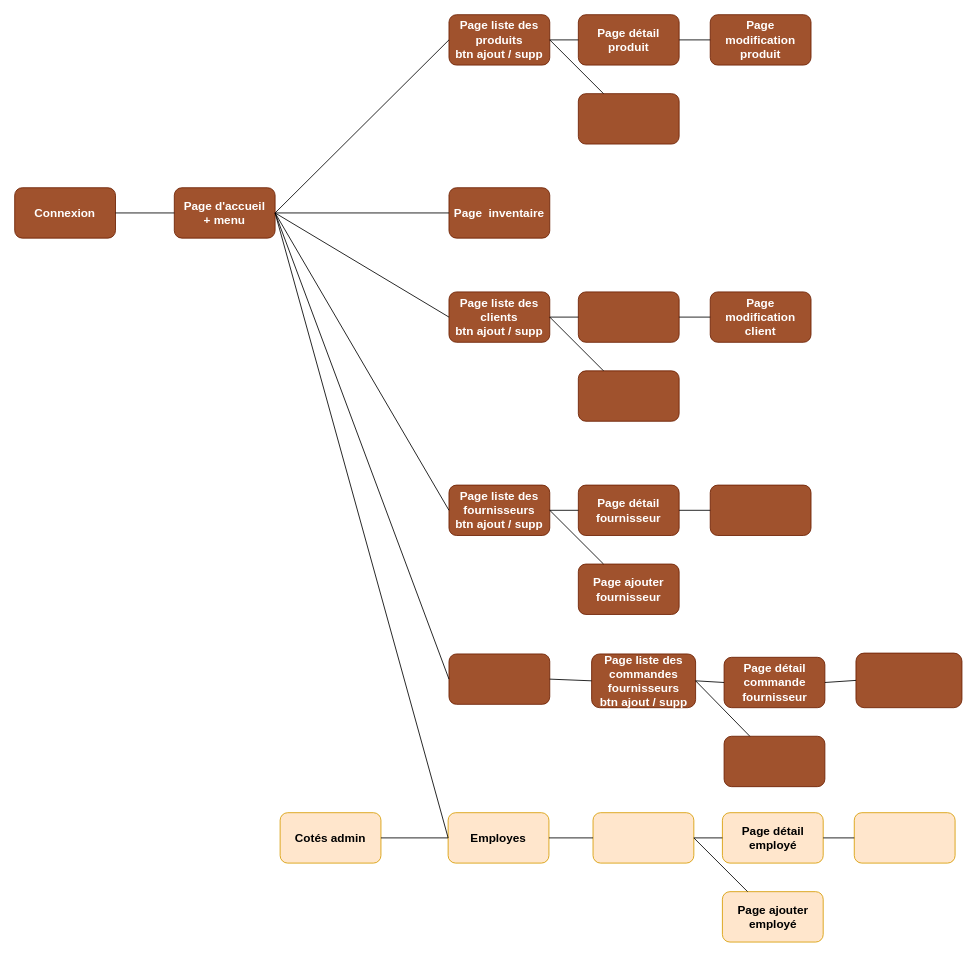
The diagram is 977 pixels wide and 957 high, and some of its shapes have lost their labels. Each missing label, with the centre of its shape:
"Commandes fournisseurs" goes at [499,678].
"Page ajouter client" goes at [628,395].
"Page ajouter commande fournisseur" goes at [774,761].
"Page ajouter produit" goes at [628,118].
"Page détail client" goes at [628,316].
"Page liste des employés btn ajout / supp" goes at [643,837].
"Page modification commande fournisseur" goes at [908,680].
"Page modification employé" goes at [904,837].
"Page modification fournisseur" goes at [760,510].
